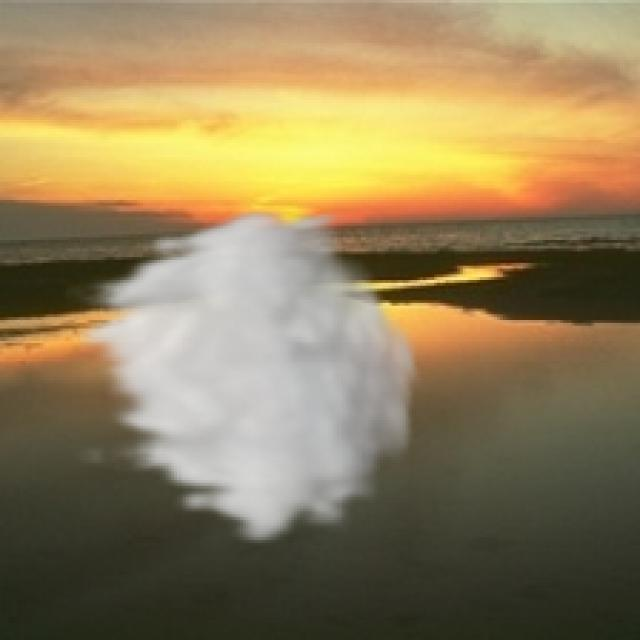smoke: (63, 206, 426, 548)
